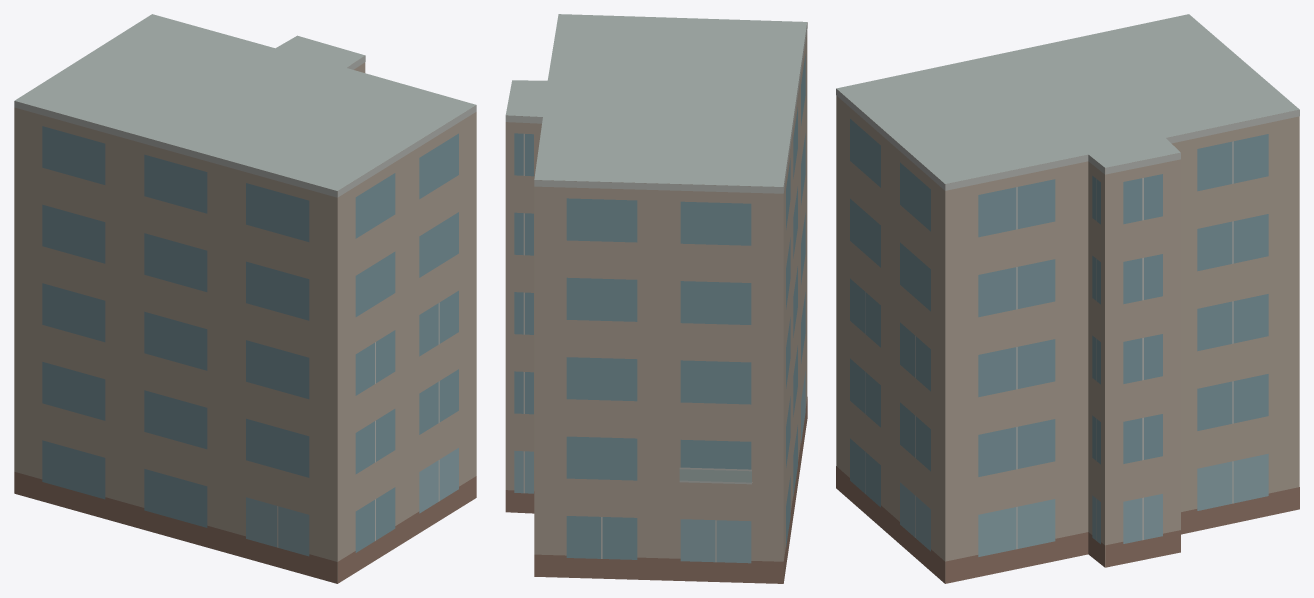
File: survey-upis-32707264.glb
3 views of the same model, side by side, from view 1: azimuth 30°, elevation 25°; view 2: azimuth 150°, elevation 25°; view 3: azimuth 270°, elevation 25° (orthographic).
Parts seen in each view (by area): view 1: survey-upis-32707264.tmp; view 2: survey-upis-32707264.tmp; view 3: survey-upis-32707264.tmp.
Boxes of the visible parts, x1=… form: survey-upis-32707264.tmp: x1=14, y1=14, x2=476, y2=583; survey-upis-32707264.tmp: x1=505, y1=14, x2=807, y2=583; survey-upis-32707264.tmp: x1=836, y1=14, x2=1299, y2=583.
Bounding box in the file's own units: 13.2 × 14.45 × 15.2.
